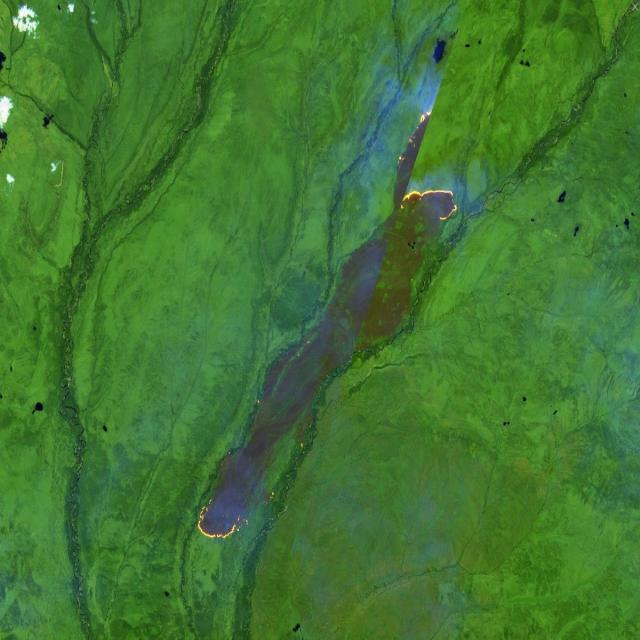fire: (396, 106, 460, 221), (194, 502, 250, 541)
